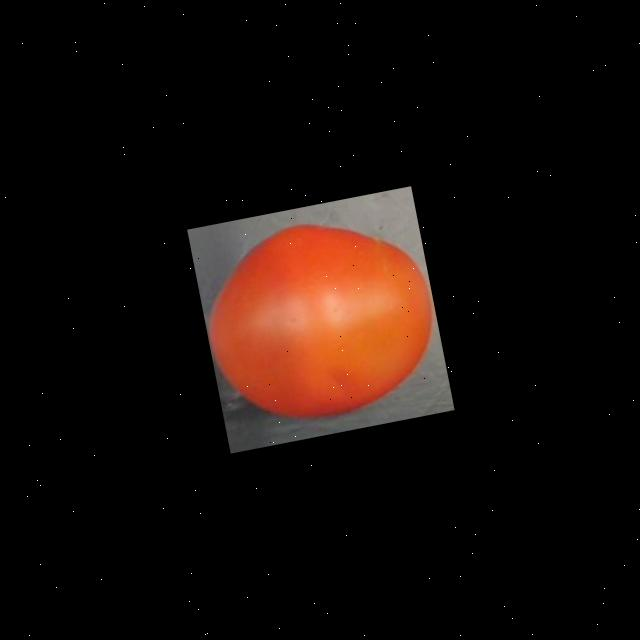tomato: (193, 203, 452, 441)
